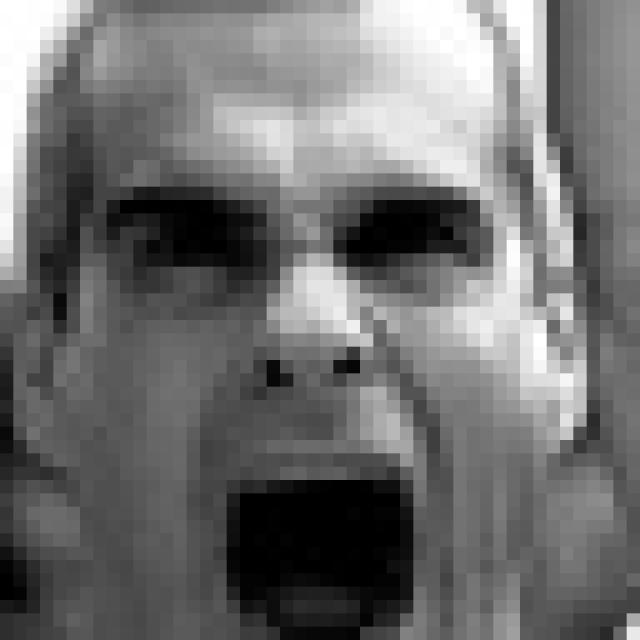angry: (97, 171, 507, 640)
